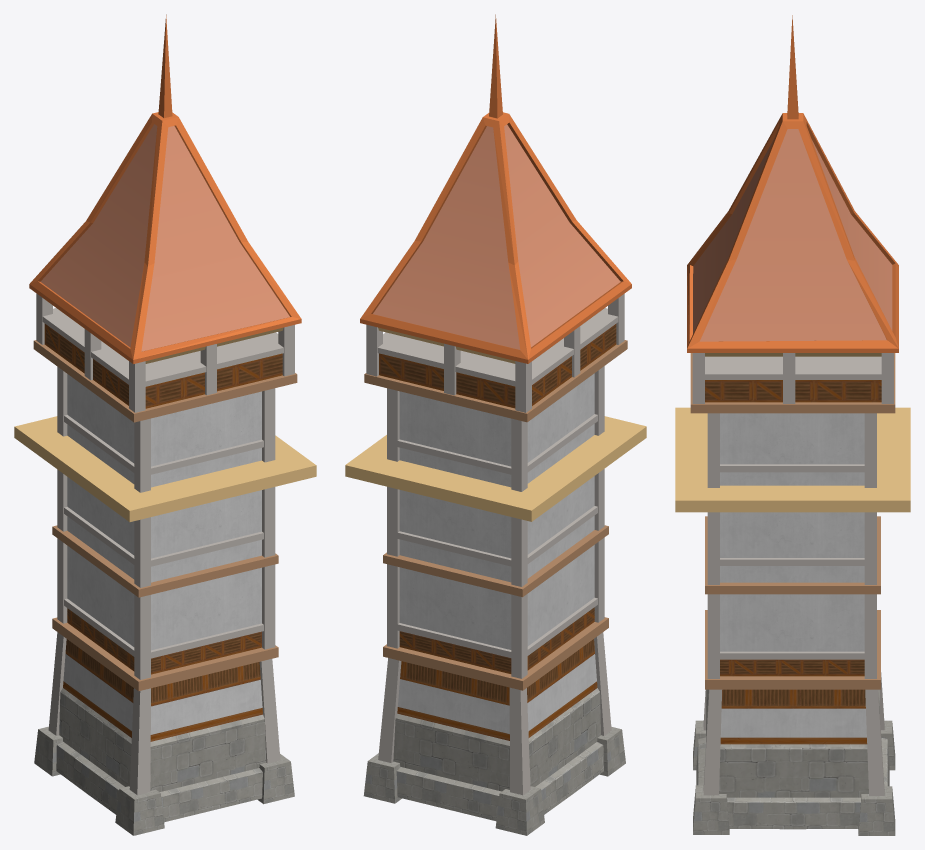
The model's file is Building_B_01.fbx.
3 renders of one model, left to right at view 1: azimuth 30°, elevation 25°; view 2: azimuth 150°, elevation 25°; view 3: azimuth 270°, elevation 25°, orthographic. The views are drawn at different scales.
Parts seen in each view (by area): view 1: Building_B_01; view 2: Building_B_01; view 3: Building_B_01.
Boxes of the visible parts, x1,y1,x2,y2 form: Building_B_01: [14, 14, 316, 835]; Building_B_01: [345, 14, 646, 835]; Building_B_01: [675, 15, 910, 835].
Size of the model in its own units: 851 by 3338 by 910.
